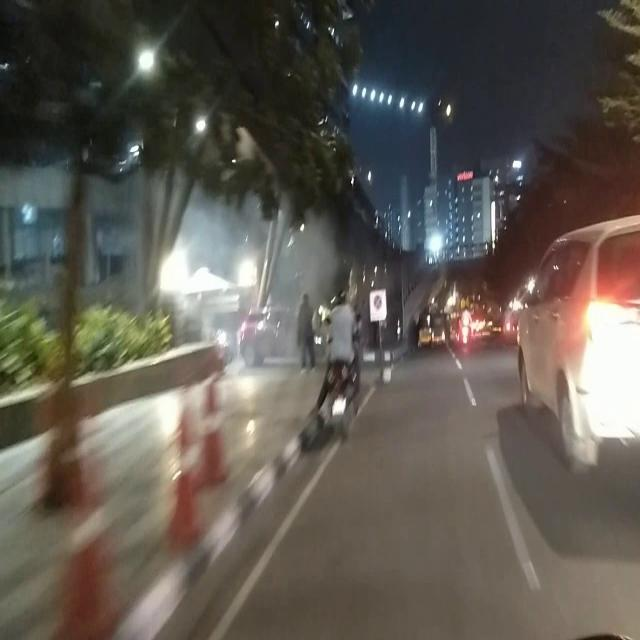car: (519, 214, 640, 466)
motorcycle: (321, 364, 361, 445)
person: (322, 286, 358, 363)
road: (202, 465, 640, 640), (301, 352, 585, 466)
sidewalk: (0, 454, 196, 640), (118, 398, 301, 456), (225, 352, 322, 404)
